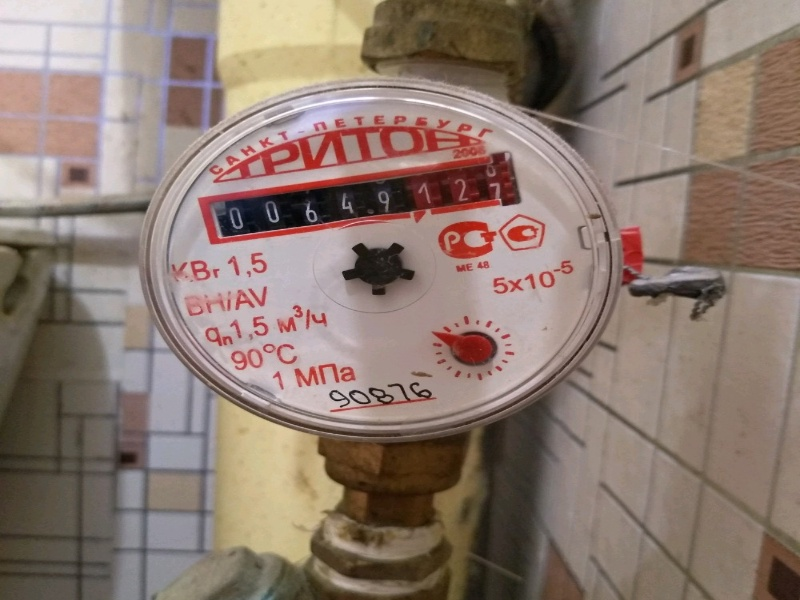dial: (201, 183, 517, 225)
